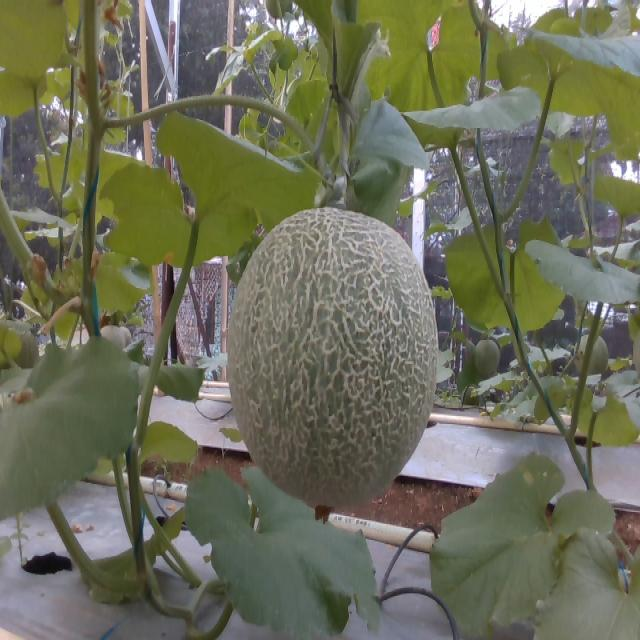melon: (230, 207, 437, 508)
